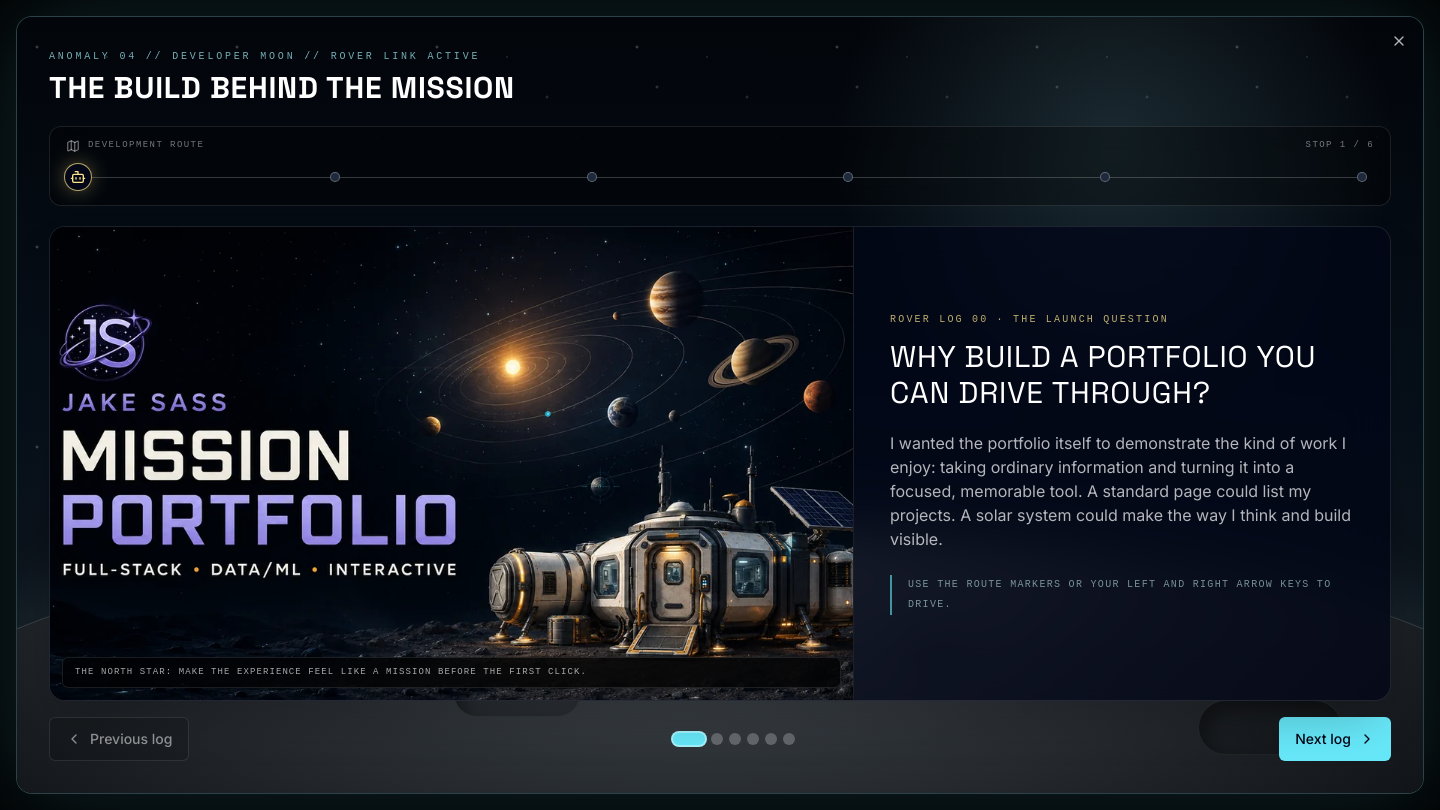
Test: DeveloperMoonJourney › presents the build story as a keyboard-operable rover route
The image size is (1440, 810).
Expected: the heading "Why build a portfolio you can drive through?" is shown, top-left (890, 339), bottom-right (1354, 411)
Expected: the number of buttons named "visit rover stop" is 6, top-left (673, 733), bottom-right (705, 745); top-left (711, 733), bottom-right (723, 745); top-left (729, 733), bottom-right (741, 745); top-left (747, 733), bottom-right (759, 745); top-left (765, 733), bottom-right (777, 745); top-left (783, 733), bottom-right (795, 745)
Click the button "Next log" at (1335, 739), box top-left (1279, 717), bottom-right (1391, 761)
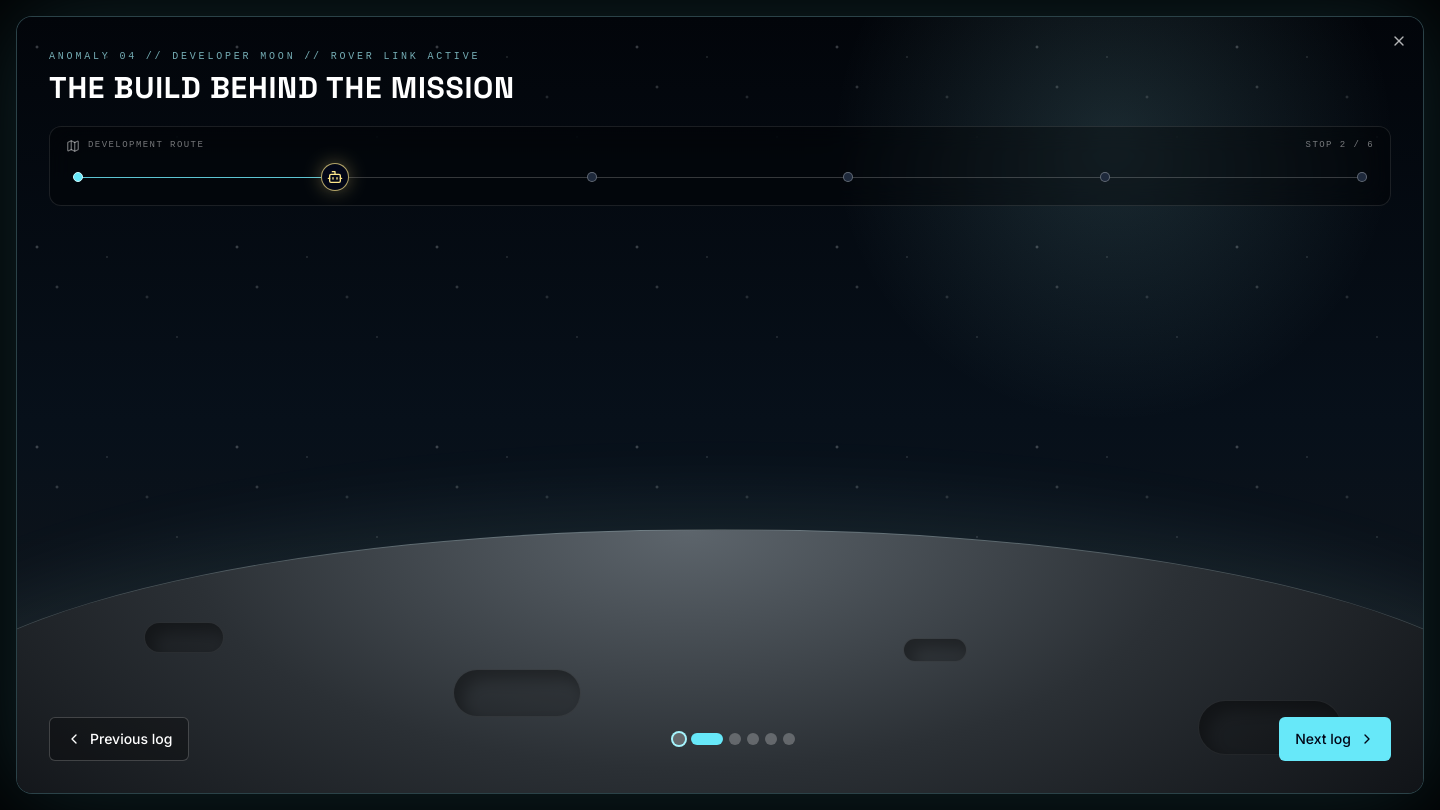
Press ArrowRight
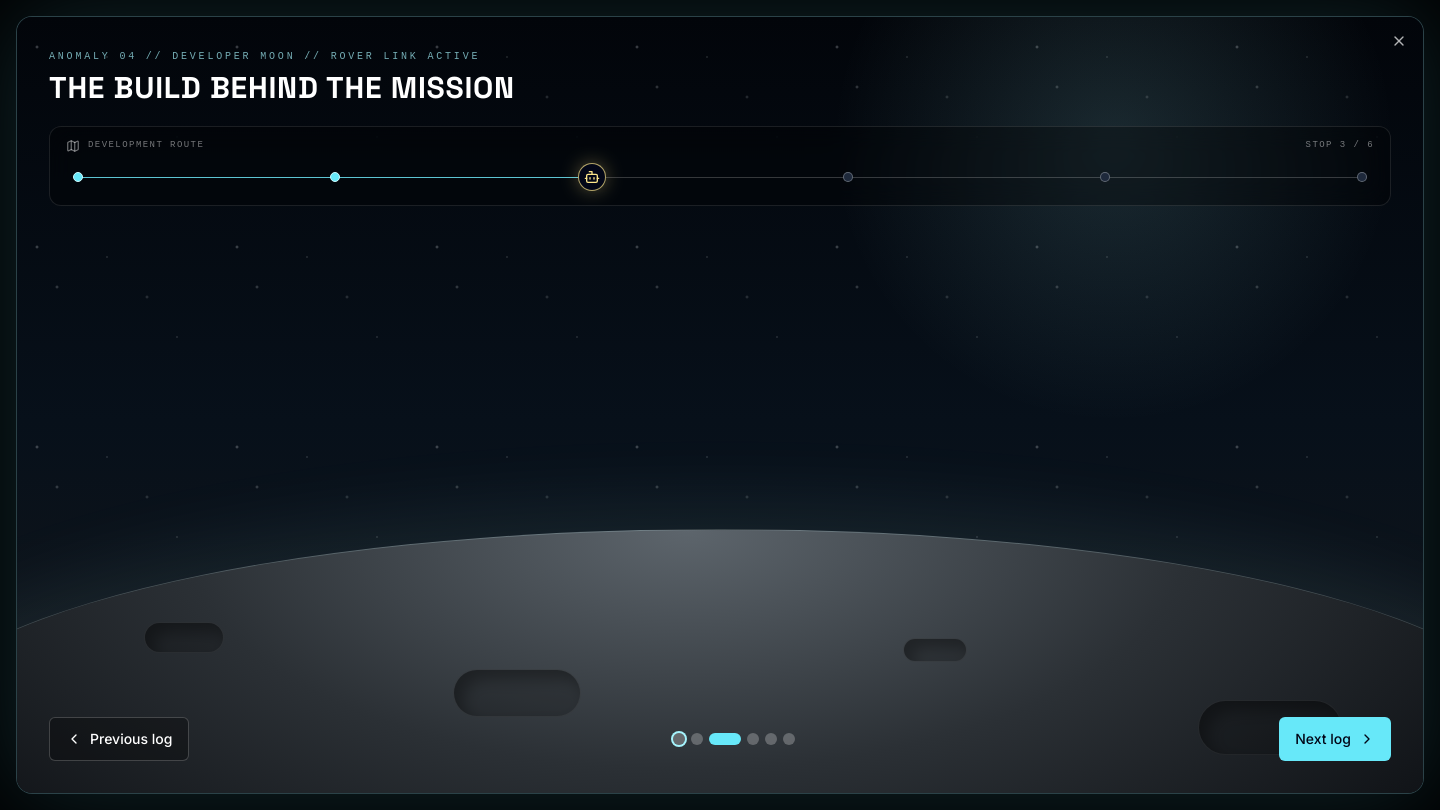
Press ArrowLeft
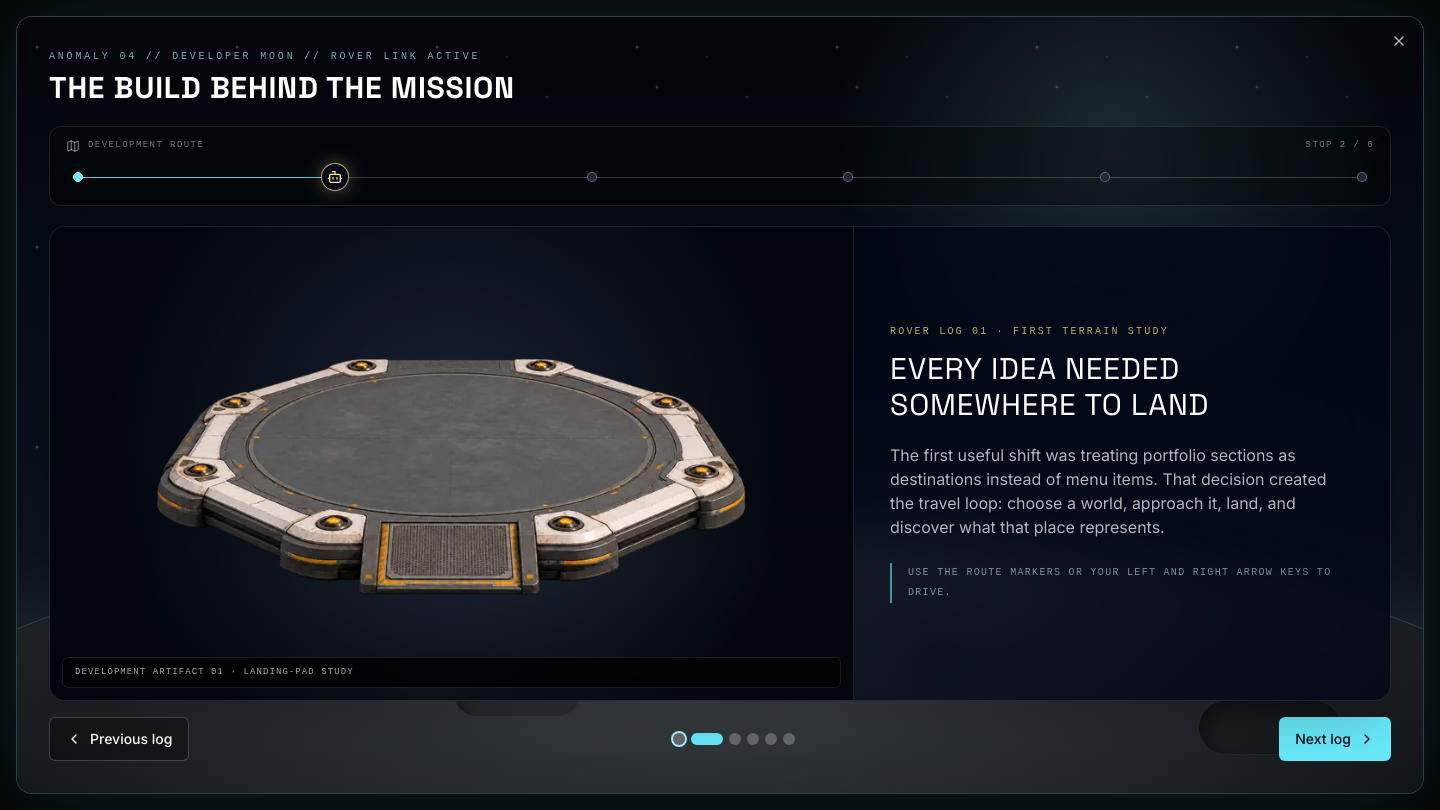
Result: the heading "Every idea needed somewhere to land" is shown at top-left (890, 349), bottom-right (1209, 424)
